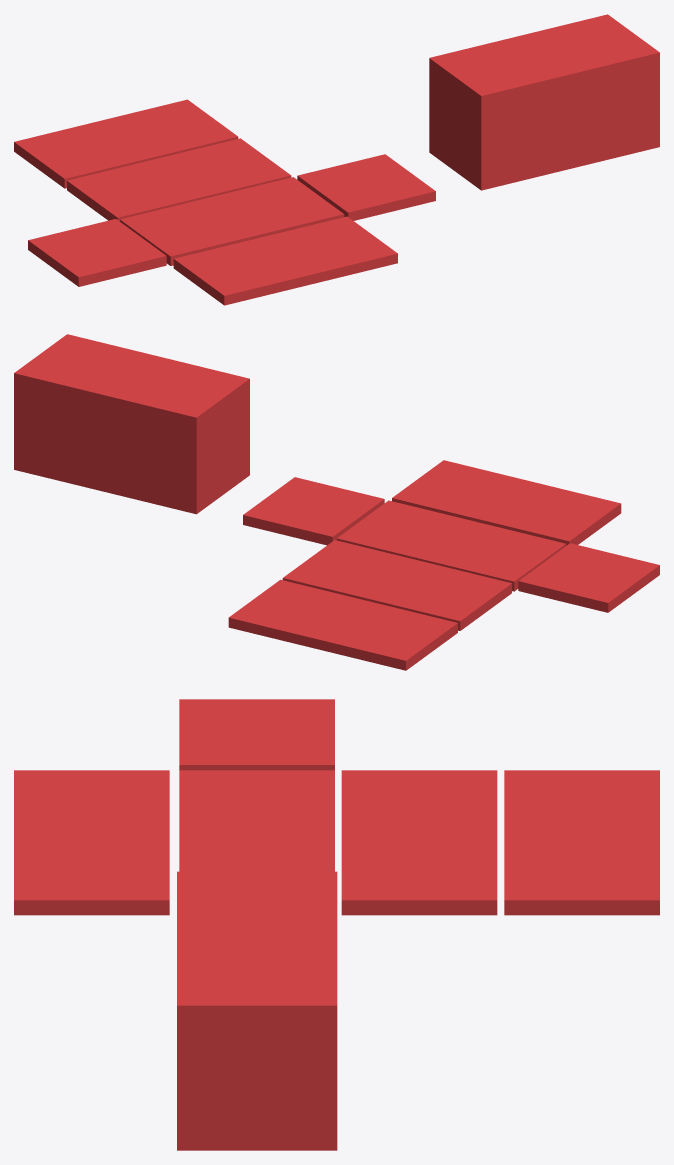
File: Balok Aja.fbx
The picture shows the model from 3 angles, top to bottom: view 1: azimuth 30°, elevation 25°; view 2: azimuth 150°, elevation 25°; view 3: azimuth 270°, elevation 25°; orthographic projection. The views are drawn at different scales.
Visible parts, largest first — view 1: Balok, Depan, Atas, Belakang, Bawah, Kiri, Kanan; view 2: Balok, Atas, Depan, Belakang, Bawah, Kiri, Kanan; view 3: Balok, Belakang, Atas, Depan, Bawah, Kiri.
Boxes of the visible parts, x1,y1,x2,y2 form: Balok: [429, 14, 659, 190]; Depan: [173, 216, 397, 305]; Atas: [14, 99, 238, 188]; Belakang: [67, 138, 291, 221]; Bawah: [120, 177, 344, 265]; Kiri: [28, 219, 166, 286]; Kanan: [297, 154, 435, 220]; Balok: [14, 334, 249, 514]; Atas: [228, 579, 457, 670]; Depan: [392, 460, 621, 545]; Belakang: [282, 540, 511, 630]; Bawah: [337, 500, 566, 591]; Kiri: [518, 543, 659, 612]; Kanan: [243, 477, 384, 545]; Balok: [177, 871, 337, 1150]; Belakang: [341, 770, 497, 915]; Atas: [504, 770, 659, 915]; Depan: [14, 770, 169, 915]; Bawah: [179, 770, 334, 871]; Kiri: [179, 699, 334, 770].
Bounding box in the file's own units: 1322 × 207 × 830.
